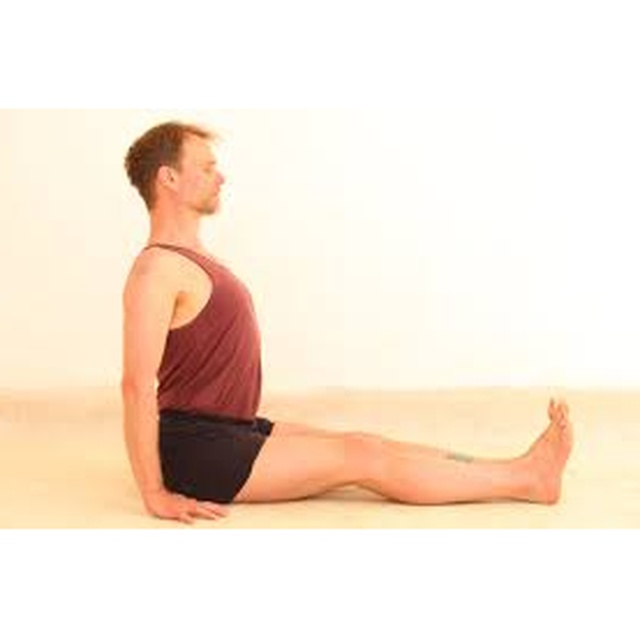Staff_Pose: (120, 119, 573, 530)
